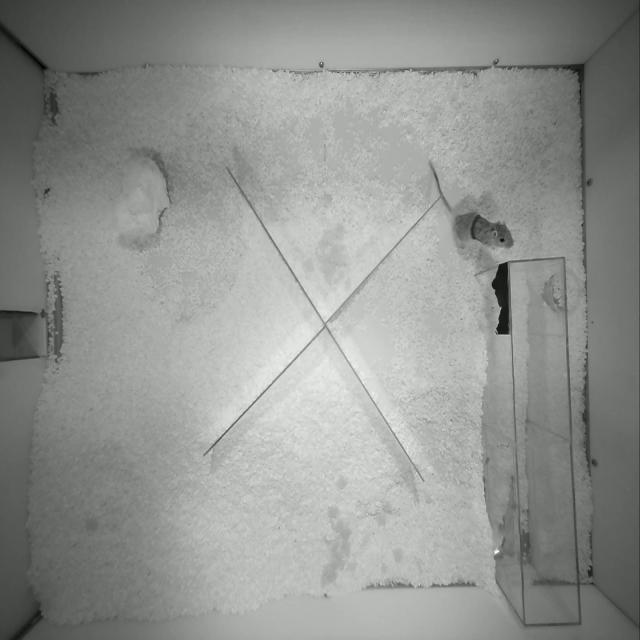adult_front: (431, 163, 515, 250)
